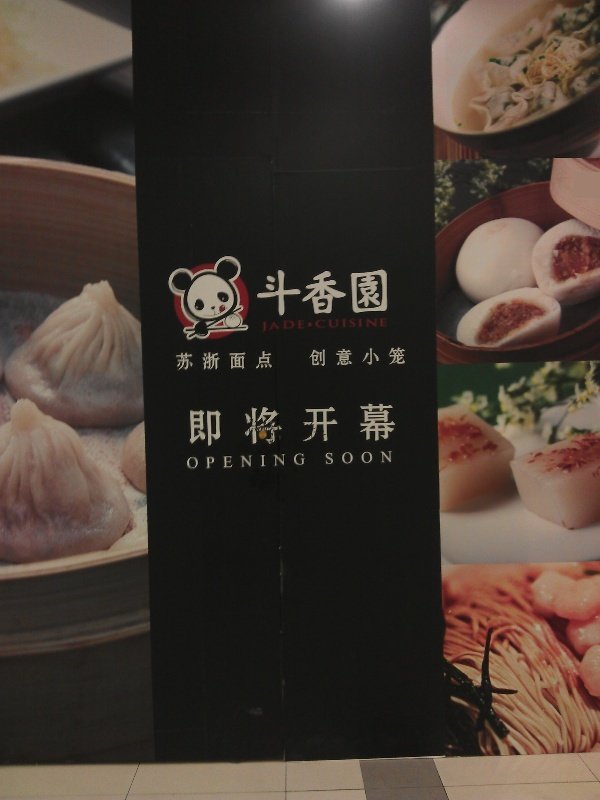text: (257, 264, 272, 318), (273, 264, 288, 318), (289, 264, 304, 318), (305, 264, 320, 318), (321, 264, 336, 318), (337, 264, 352, 318), (353, 264, 368, 318), (369, 264, 384, 318), (193, 403, 208, 448), (209, 403, 224, 448), (225, 403, 240, 448), (241, 403, 256, 448), (257, 403, 272, 448), (273, 403, 288, 448), (289, 403, 304, 448), (305, 403, 320, 448), (321, 403, 336, 448), (337, 403, 352, 448), (353, 403, 368, 448), (369, 403, 384, 448), (385, 403, 396, 448), (177, 351, 192, 372), (193, 351, 208, 372), (209, 351, 224, 372), (225, 351, 240, 372), (241, 351, 256, 372), (257, 351, 272, 372), (321, 347, 336, 368), (337, 347, 352, 368), (353, 347, 368, 368), (369, 347, 384, 368), (385, 347, 400, 368), (289, 453, 305, 470), (385, 264, 390, 318), (273, 316, 288, 334), (289, 316, 304, 334), (305, 316, 320, 334), (321, 316, 336, 334), (337, 316, 352, 334), (353, 316, 368, 334), (369, 316, 384, 334), (193, 453, 208, 470), (209, 453, 224, 470), (225, 453, 240, 470), (241, 453, 256, 470), (257, 453, 272, 470), (273, 453, 288, 470), (337, 450, 352, 466), (353, 450, 368, 466), (369, 450, 384, 466), (309, 347, 320, 368), (260, 316, 272, 334), (188, 403, 192, 448), (325, 450, 336, 466), (385, 450, 393, 466), (401, 347, 407, 368), (185, 453, 192, 470), (254, 264, 256, 318), (385, 316, 389, 334), (273, 351, 274, 372)
